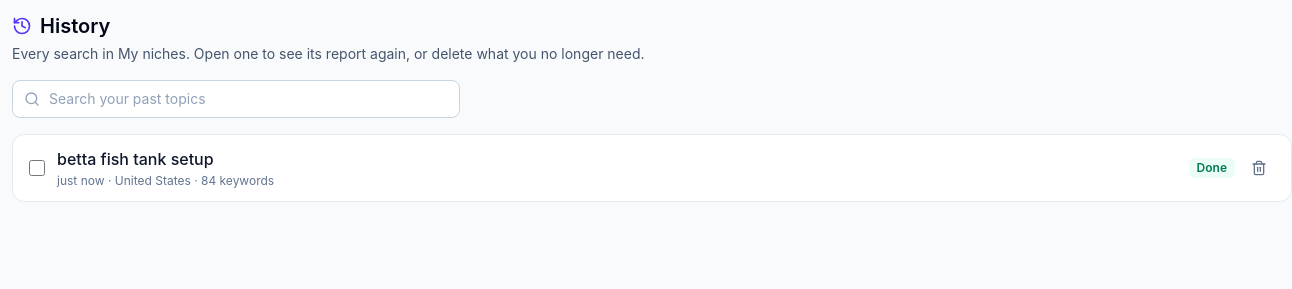
history screen › keeps the row and explains when deleting fails
The width and height of the screenshot is (1292, 289).
Check: the text "betta fish tank setup" is shown, box x1=57 y1=149 x2=214 y2=169
Click the button named "Delete “betta fish tank setup”": (1259,168) x1=1243 y1=152 x2=1275 y2=184
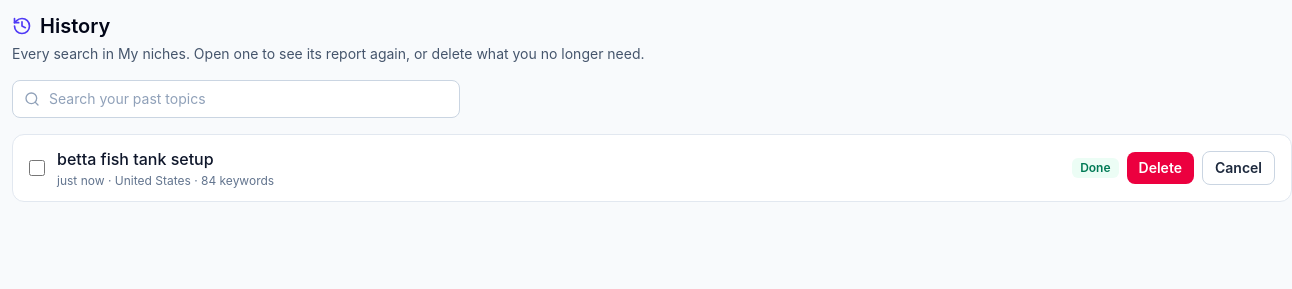
Click the button "Delete": (1160,168) x1=1126 y1=152 x2=1194 y2=184
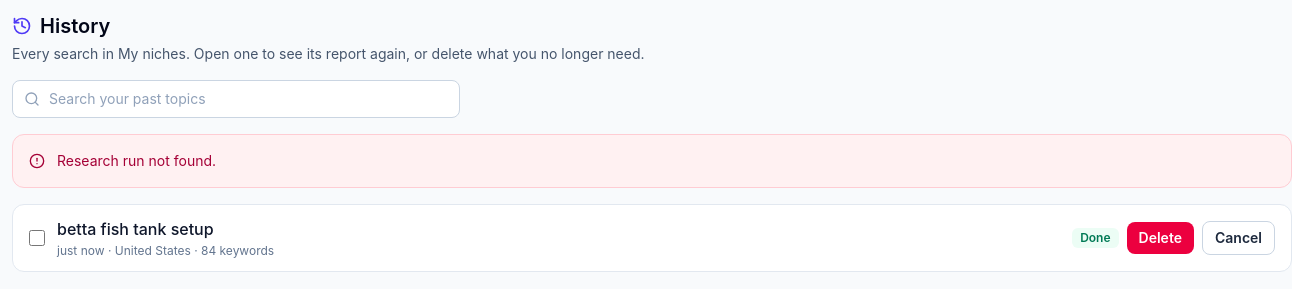
Check: the text "betta fish tank setup" is shown, box x1=57 y1=219 x2=214 y2=239
Check: the message shows "not found", box x1=57 y1=152 x2=216 y2=169
